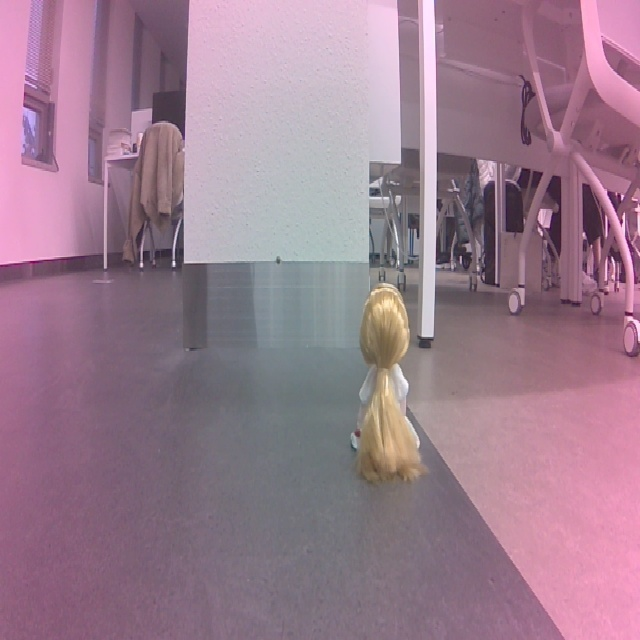장애물: (430, 250, 533, 450)
